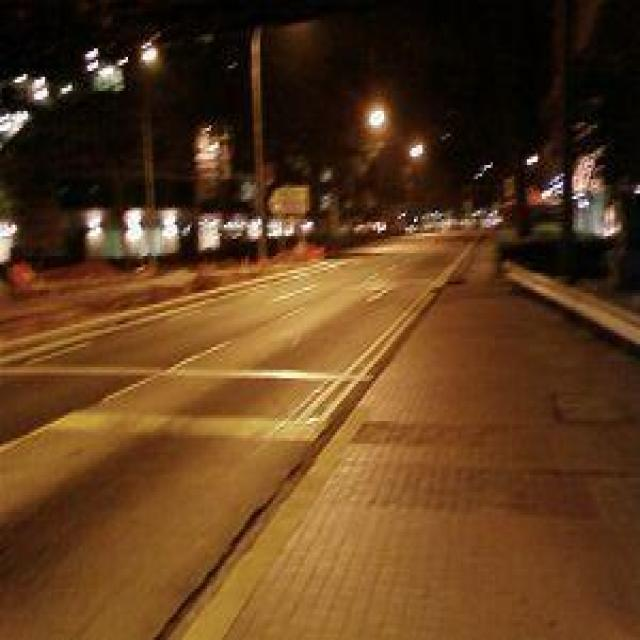other: (341, 86, 436, 171)
